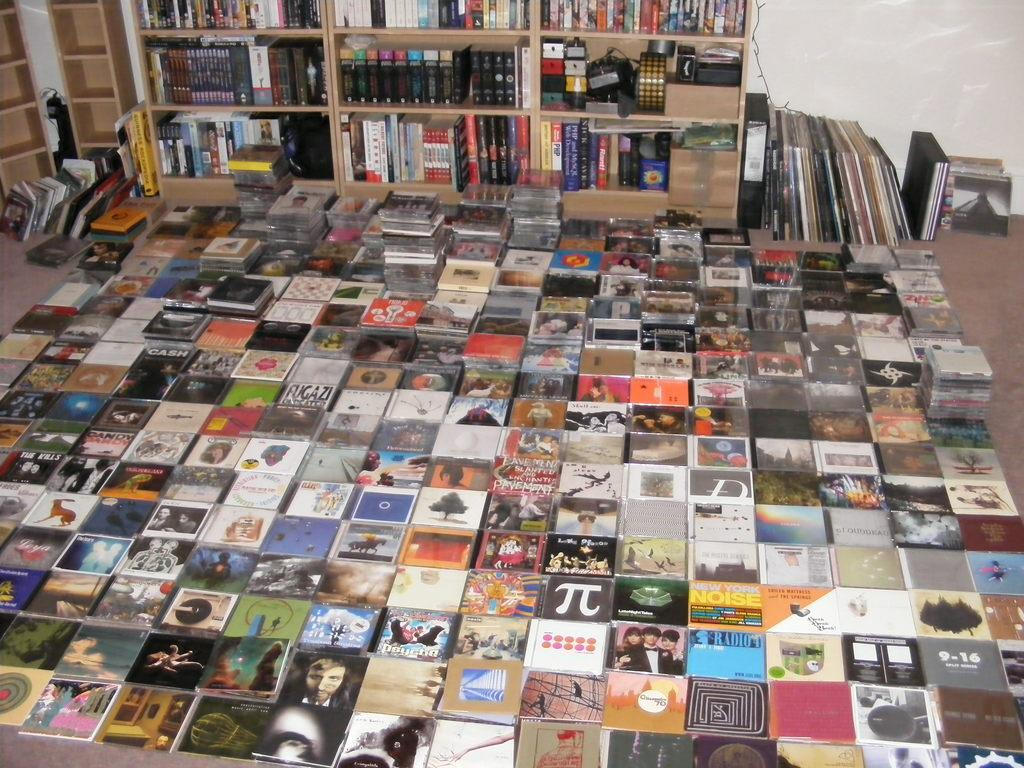Book: (0, 175, 1023, 767), (145, 0, 747, 222), (758, 100, 1009, 244), (504, 44, 516, 104)
